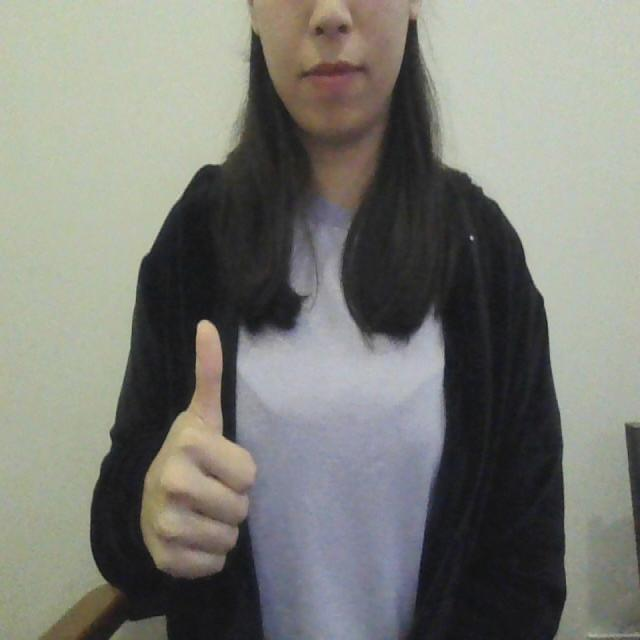Tamam: (132, 311, 260, 599)
